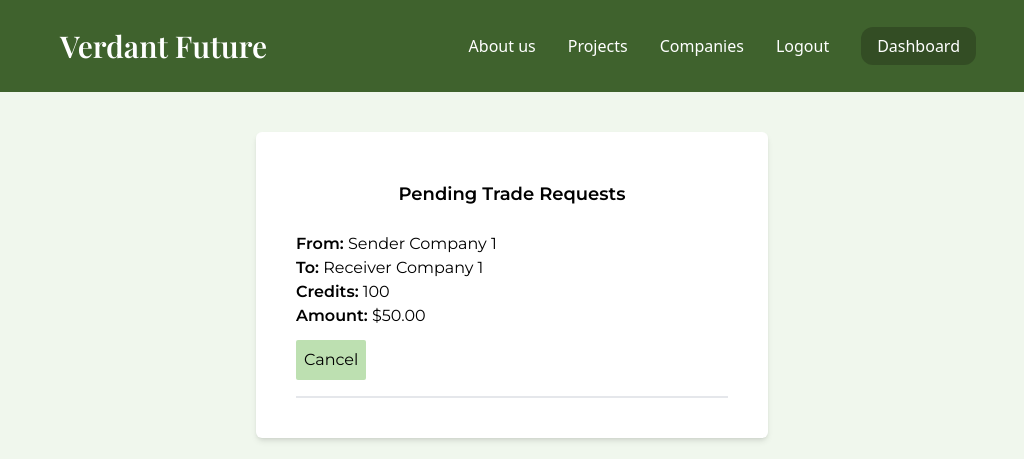
Test case: Pending Transactions › displays error message if transaction cancellation fails
The width and height of the screenshot is (1024, 459).
Expected: the text "Sender Company 1" is shown, [348,234,497,253]
Click the button "Cancel": (331, 360) [296,340,366,380]
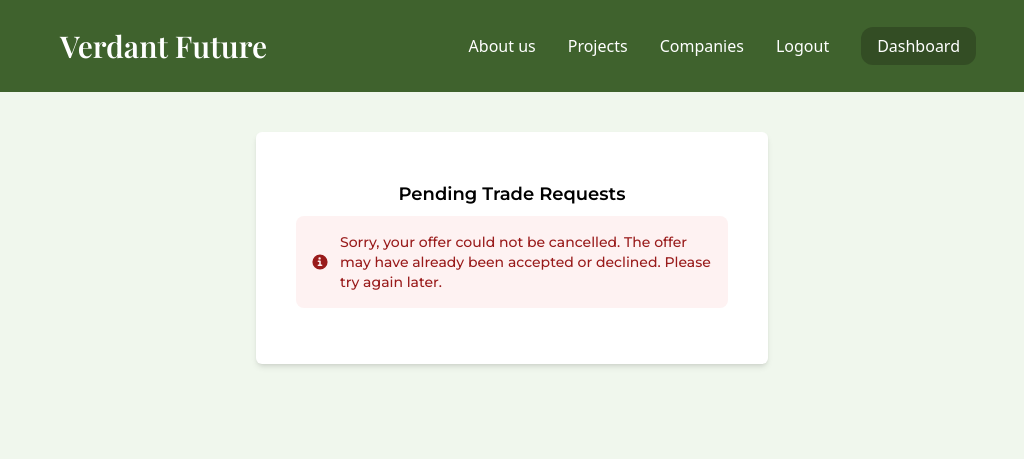
Now the text "Sorry, your offer could not be cancelled. The offer may have already been accepted or declined. Please try again later." is shown, box [340,233,711,291]
